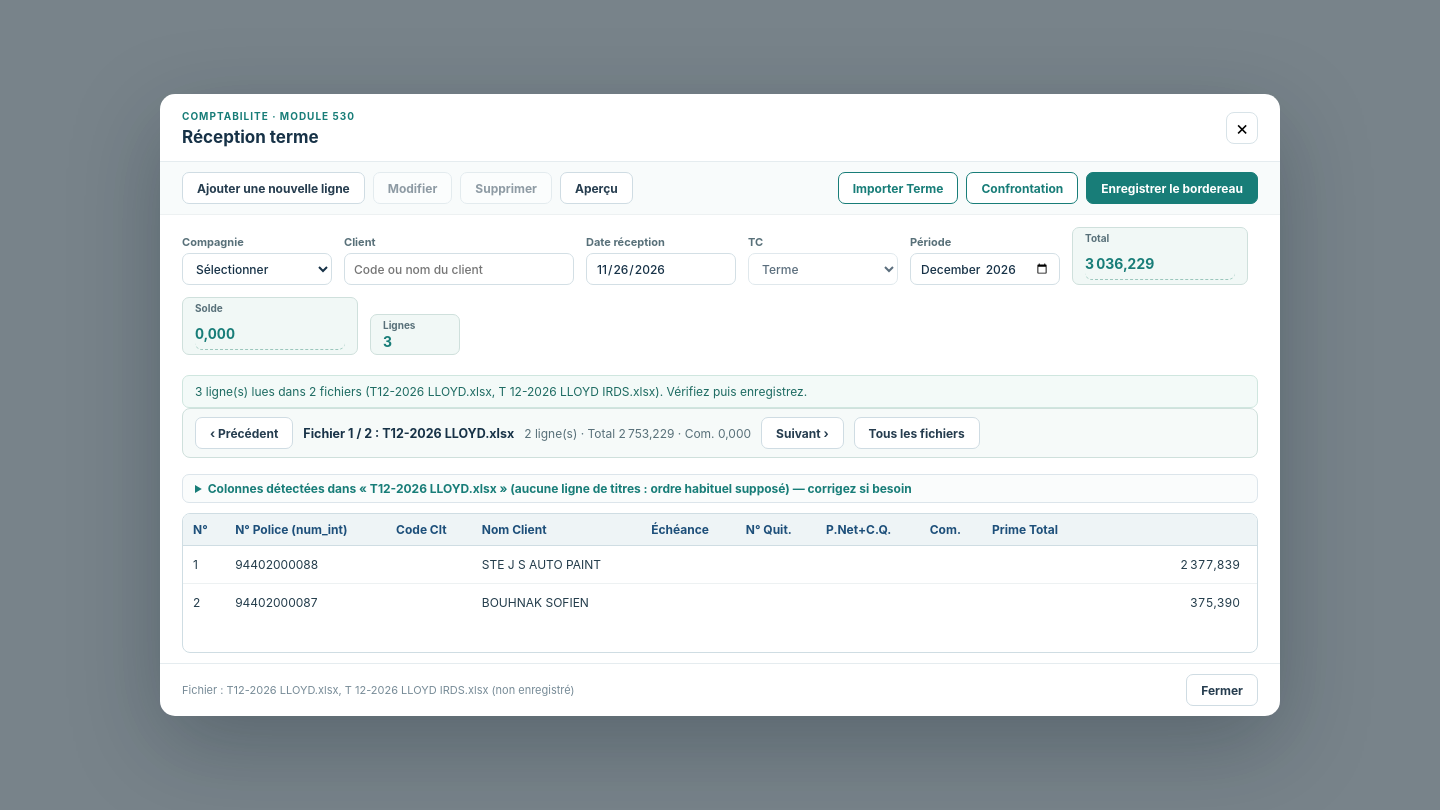
Test case: terme, several files: each is read with its own columns and shown one at a time (Suivant), or all together
This screenshot has width=1440, height=810.
Earlier steps of the test are not shown.
Check: the text "Fichier 1 / 2 : T12-2026 LLOYD.xlsx" is shown, box [303,426,514,440]
Check: the text "STE J S AUTO PAINT" is shown, box [472,546,641,584]
Click the button "Suivant ›" at (802, 433), box [761,417,844,449]
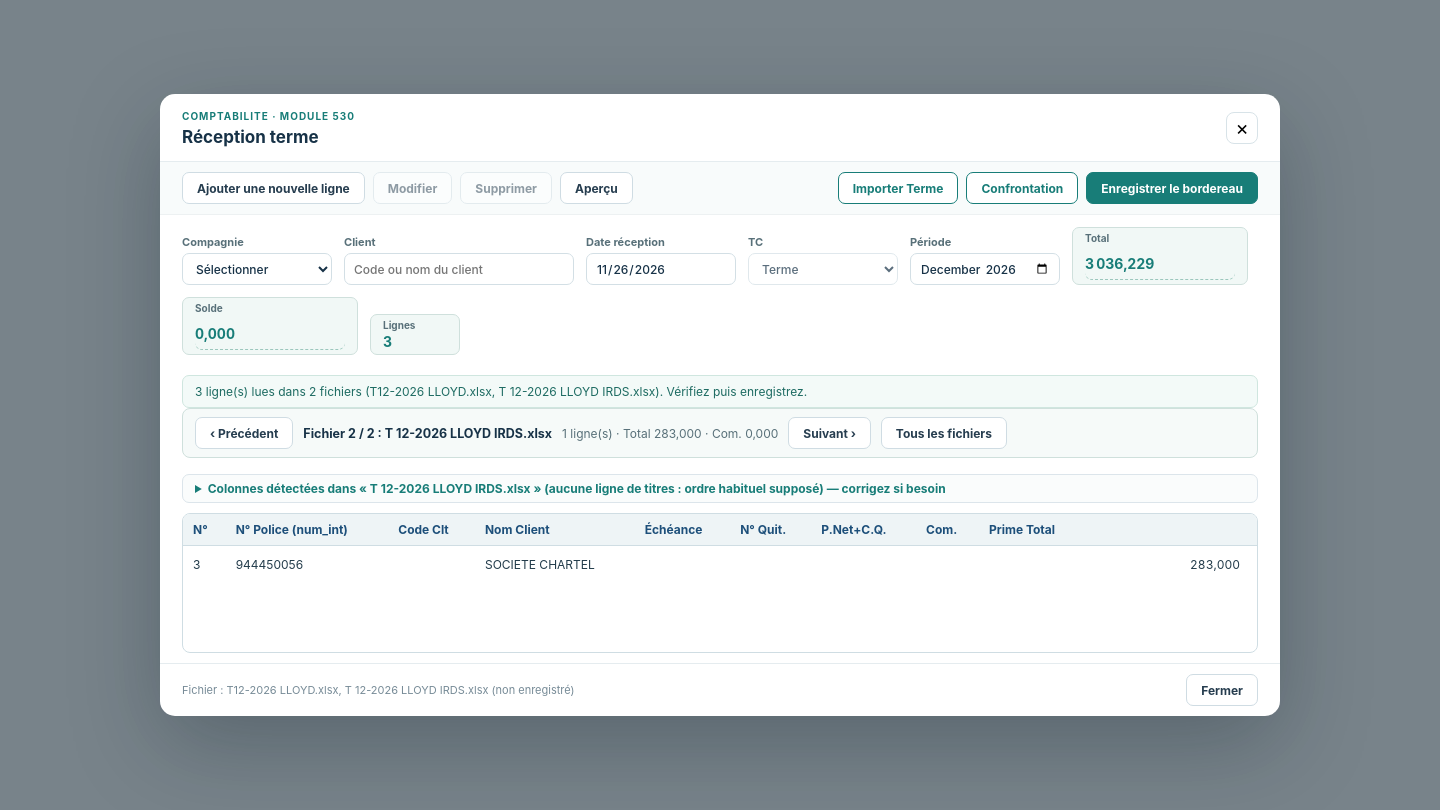
Check: the text "Fichier 2 / 2 : T 12-2026 LLOYD IRDS.xlsx" is shown, box [303,426,552,440]
Check: the text "SOCIETE CHARTEL" is shown, box [475,546,635,583]
Check: the text "STE J S AUTO PAINT" is gone
Click the button "Tous les fichiers" at (944, 433), box [881,417,1007,449]
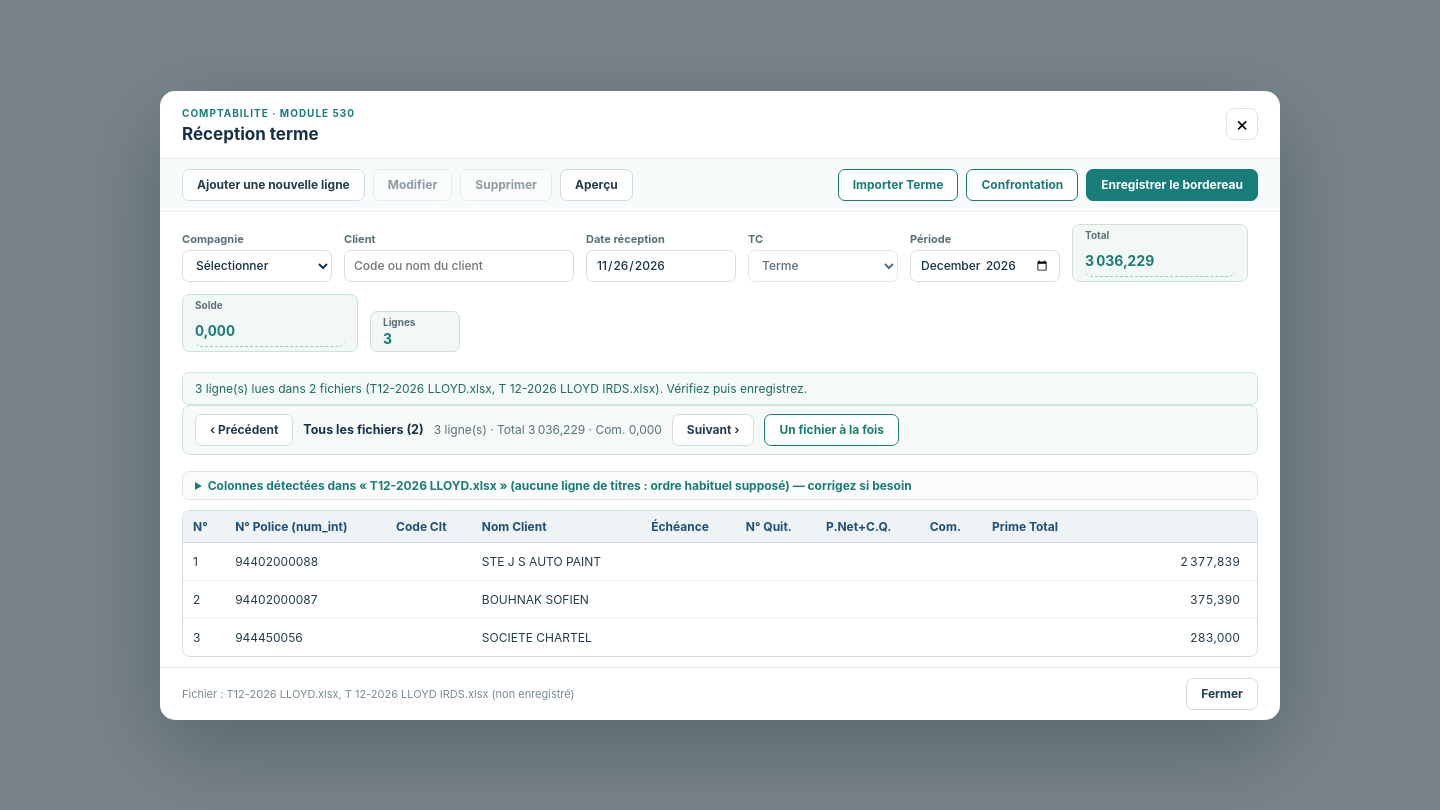
Check: the field labelled "Solde" holds "0,000", box [195,314,345,346]
Check: the text "SOCIETE CHARTEL" is shown, box [472,618,641,656]
Check: the text "STE J S AUTO PAINT" is shown, box [472,542,641,580]
